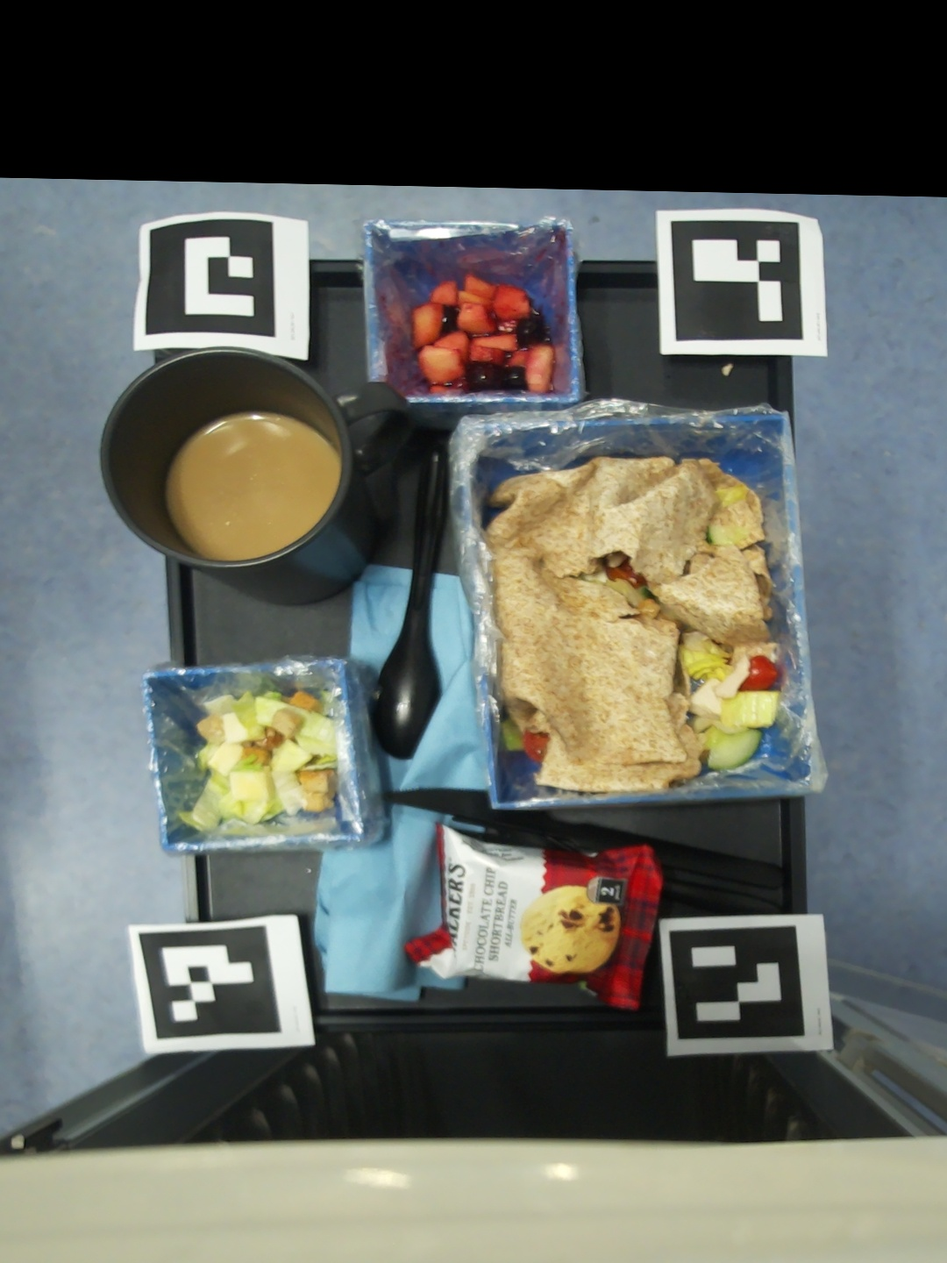cherry_jam: (412, 271, 553, 393)
coffee_cup: (100, 347, 411, 604)
cookie: (405, 822, 662, 1011)
fruit_salad: (384, 265, 559, 398)
side_salad: (178, 691, 340, 836)
wrap_half_1: (486, 455, 770, 792)
wrap_half_2: (689, 482, 780, 770)
